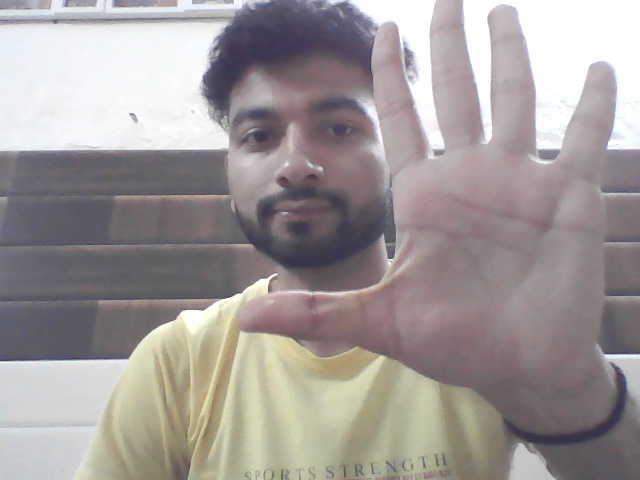Hello: (254, 1, 635, 441)
